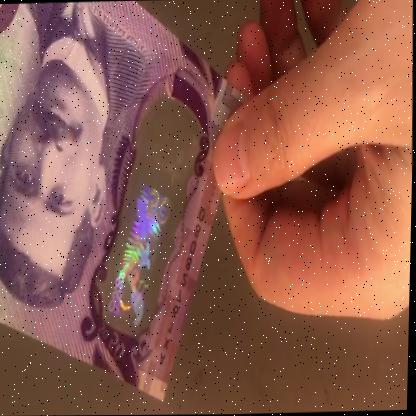50F: (104, 115, 184, 331)
